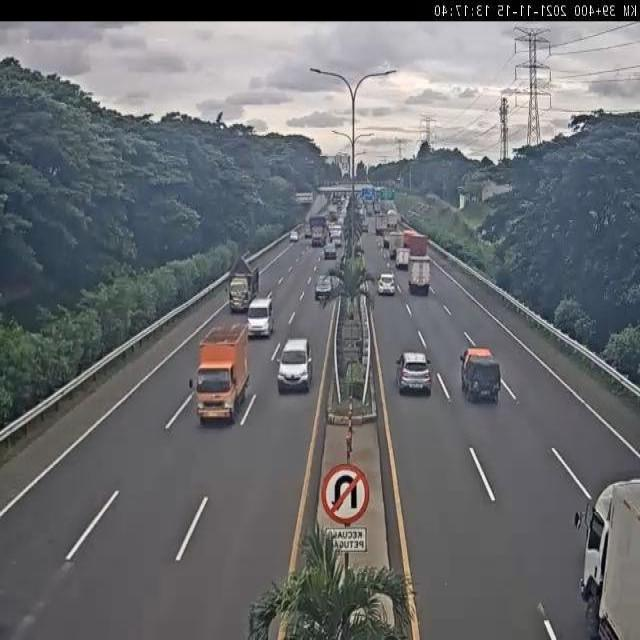Car: (396, 349, 439, 397), (276, 338, 313, 393), (315, 275, 333, 301), (377, 272, 396, 296), (324, 242, 337, 260), (290, 231, 298, 242)
Truck: (578, 481, 640, 639), (186, 333, 250, 431), (459, 346, 500, 403), (219, 255, 260, 308), (405, 250, 438, 298), (247, 296, 274, 338)
